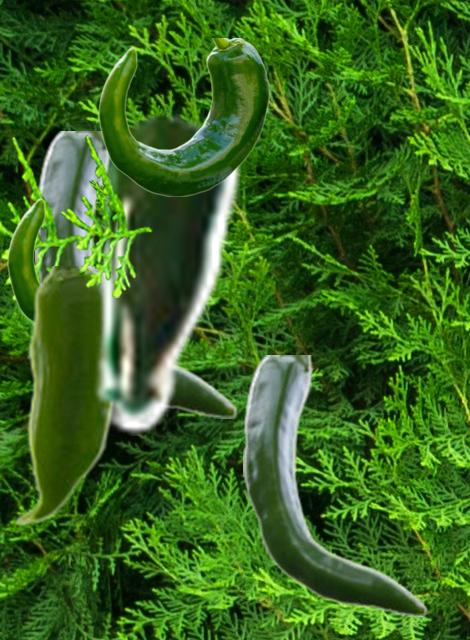green_chili: (35, 131, 237, 417), (87, 110, 242, 434), (243, 355, 427, 615), (98, 38, 269, 195), (13, 266, 114, 526), (7, 197, 46, 321)
